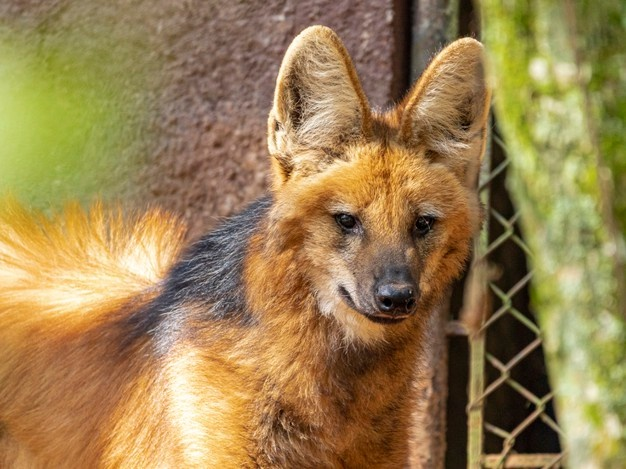LoboGuara: (19, 22, 496, 446)
